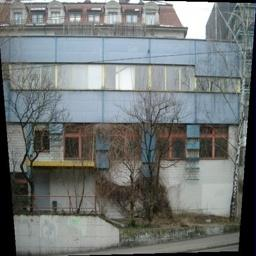building: (0, 0, 256, 227)
